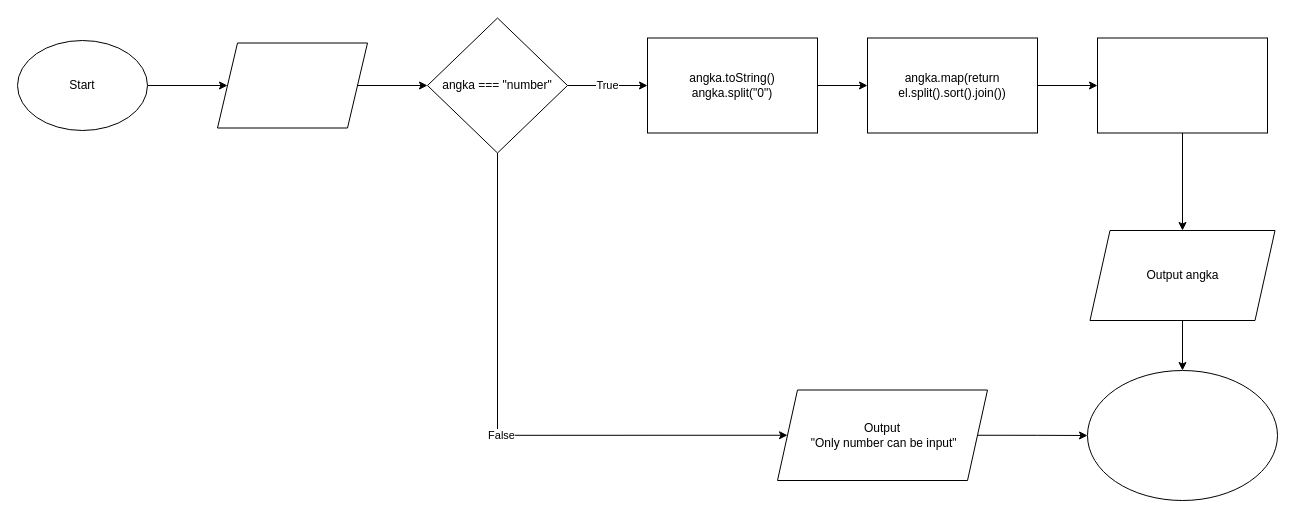
Some shapes in this 1295 by 518 pixel diagram are drawn without their labels. The shapes that lost their labels are listed below. From the top down, each one's centre as x and y in pixels, then its label:
point 292,85: Input Angka
point 1182,85: angka.join() parseInt(angka)
point 1182,435: End
